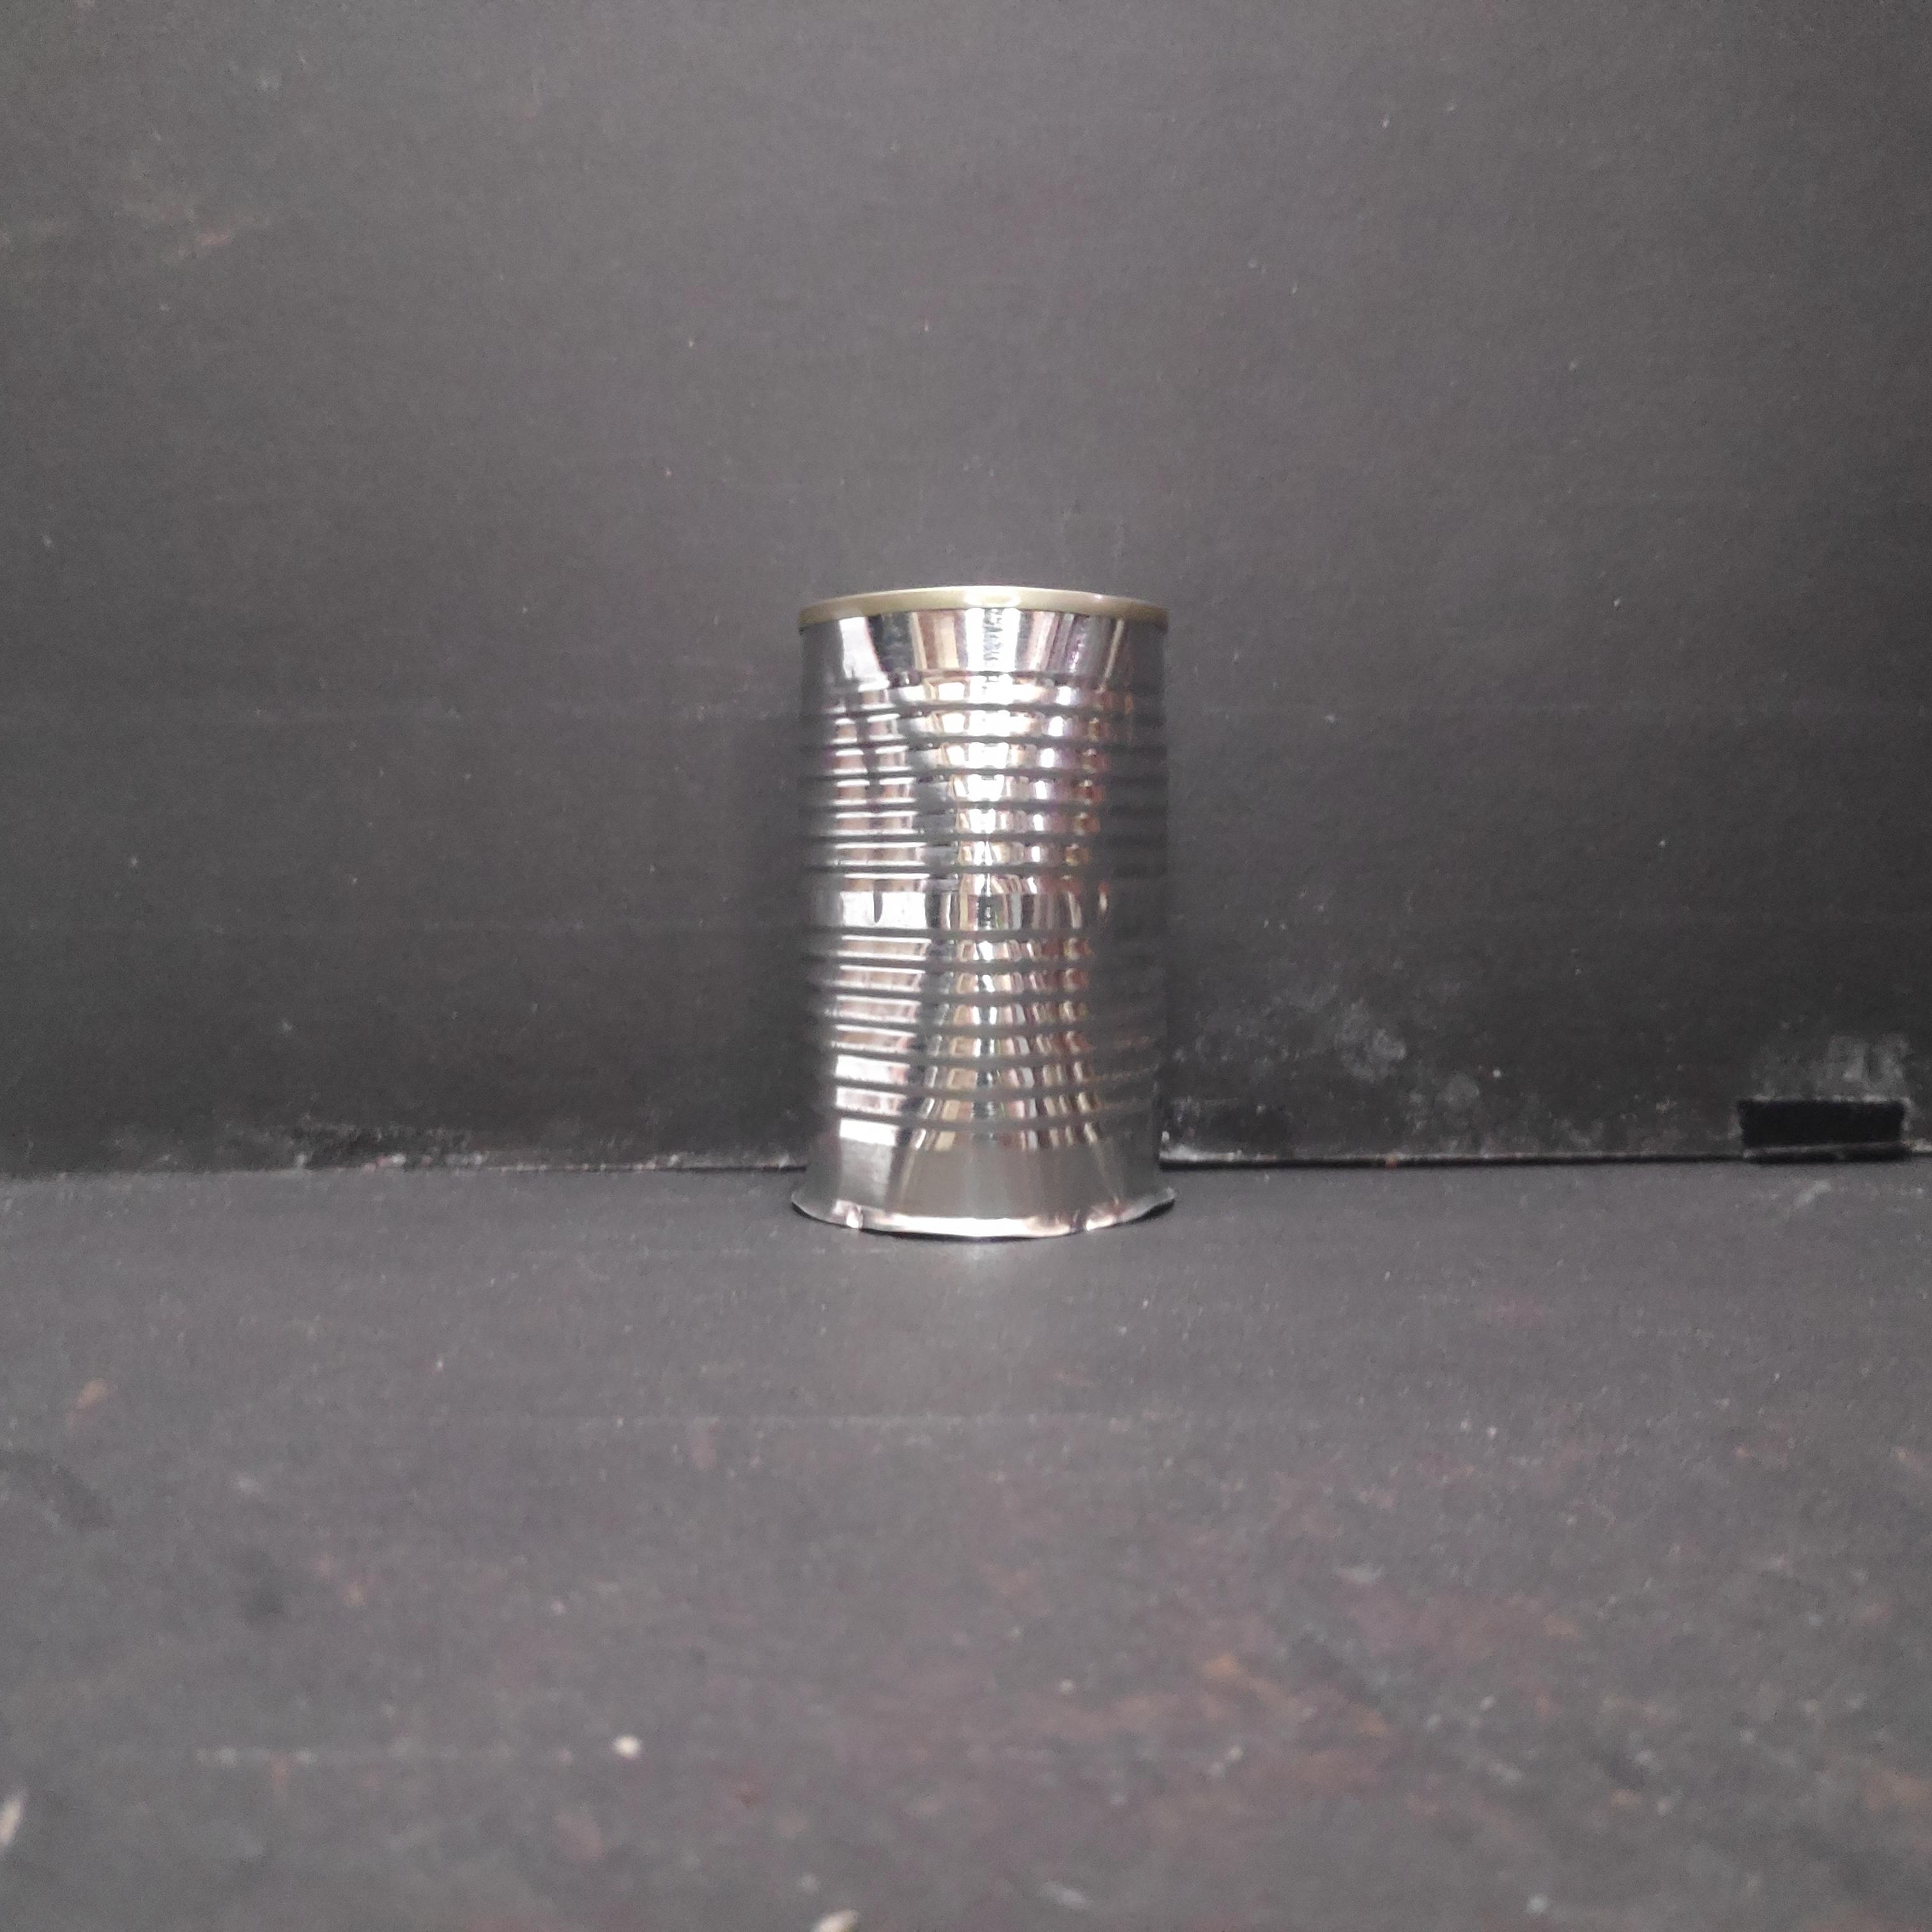Minor Defect: (793, 579, 1187, 1249)
